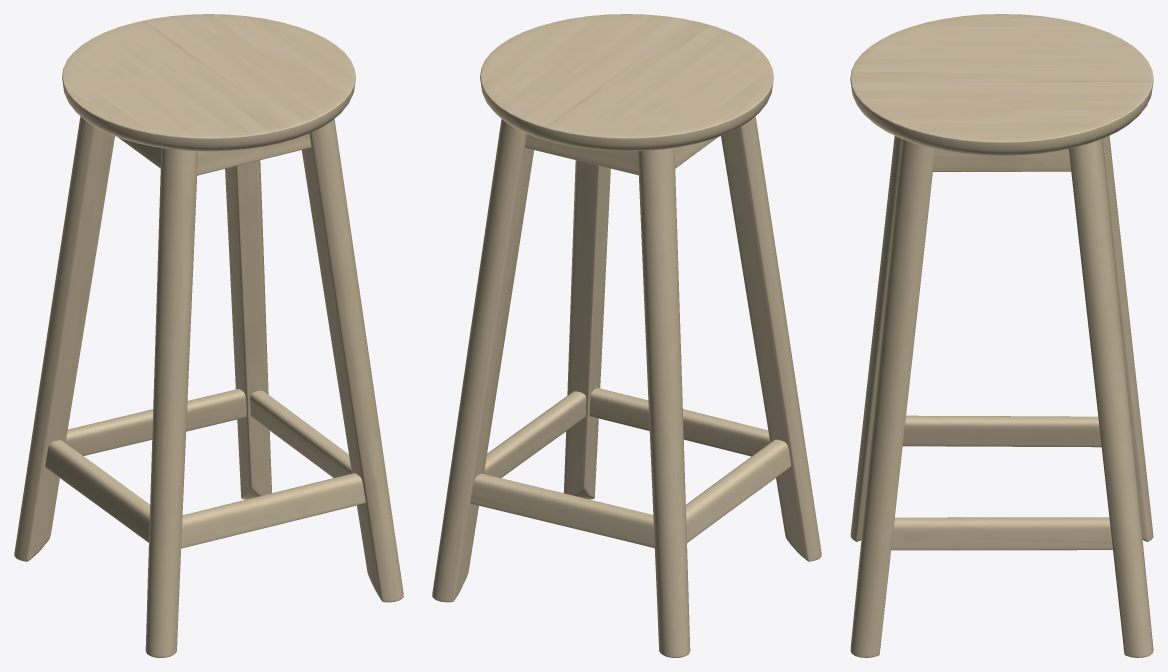
Rendered from 01 - RÄVSTEN Bar stool - counter height rubberwood 62 cm.glb.
3 views of the same model, side by side, from view 1: azimuth 30°, elevation 25°; view 2: azimuth 150°, elevation 25°; view 3: azimuth 270°, elevation 25° (orthographic). The views are drawn at different scales.
Parts seen in each view (by area): view 1: 30597055_bar_stool; view 2: 30597055_bar_stool; view 3: 30597055_bar_stool.
Boxes of the visible parts, x1,y1,x2,y2 form: 30597055_bar_stool: [14, 14, 403, 657]; 30597055_bar_stool: [432, 14, 821, 657]; 30597055_bar_stool: [850, 14, 1153, 657].
Size of the model in its own units: 0.3302 by 0.62 by 0.3302.
Materials: 1 (1 with a texture image).
